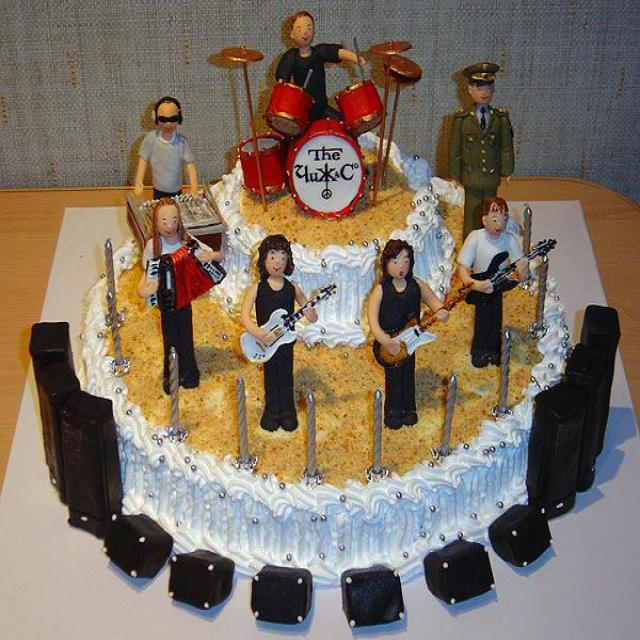Wet Waste: (40, 41, 623, 602)
